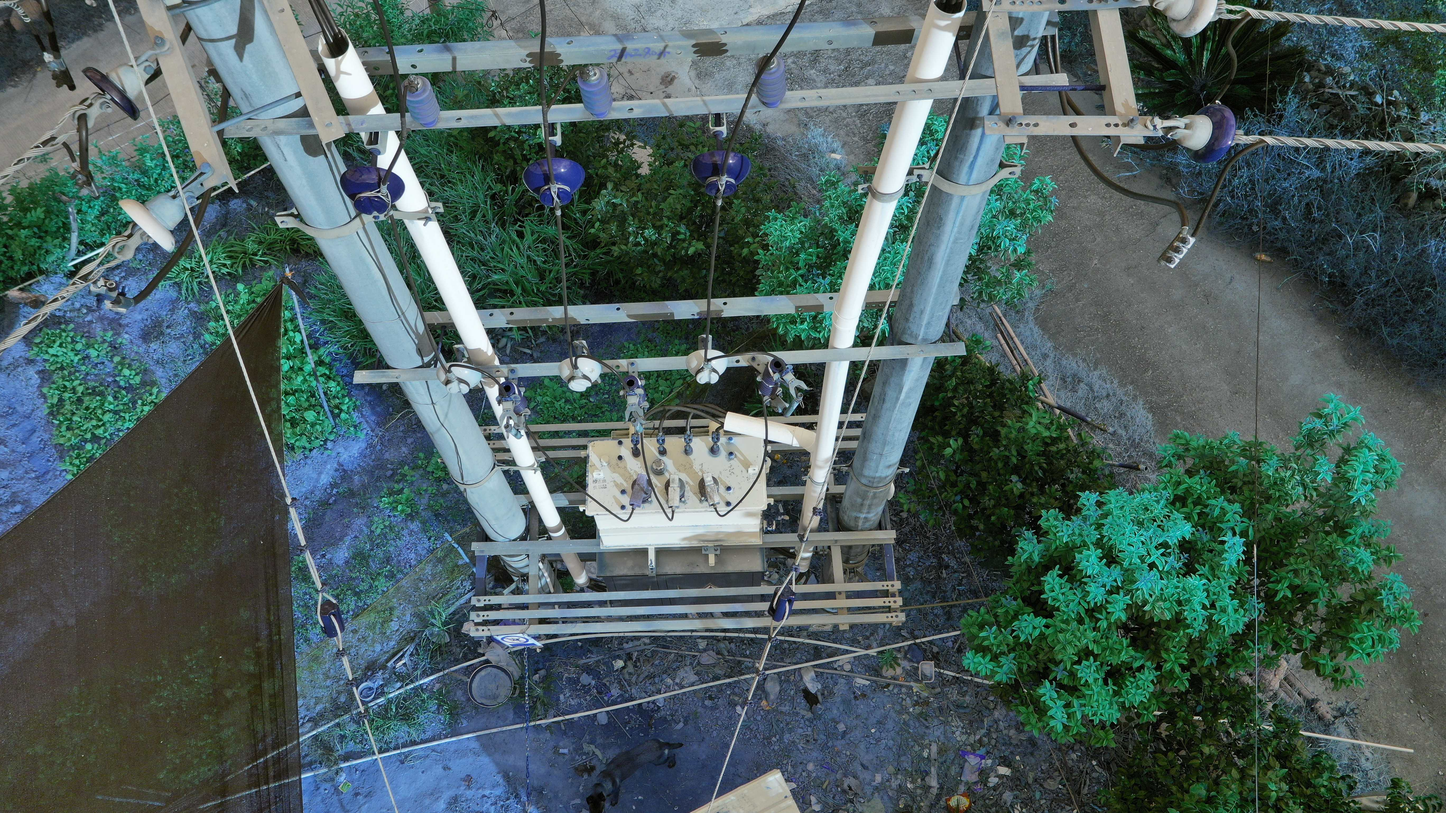severe_soiling_no_discharge_whole: (1154, 1, 1219, 42)
